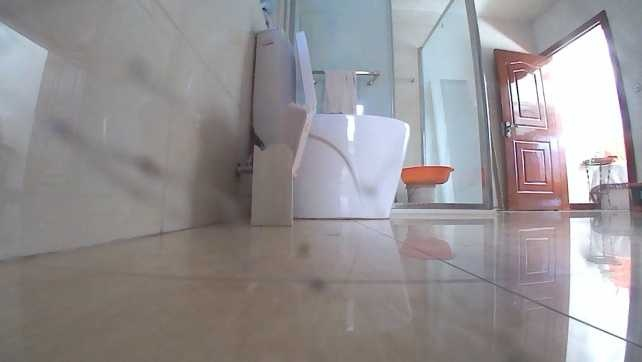door_anno: (493, 46, 571, 210)
toilet: (250, 27, 411, 221)
